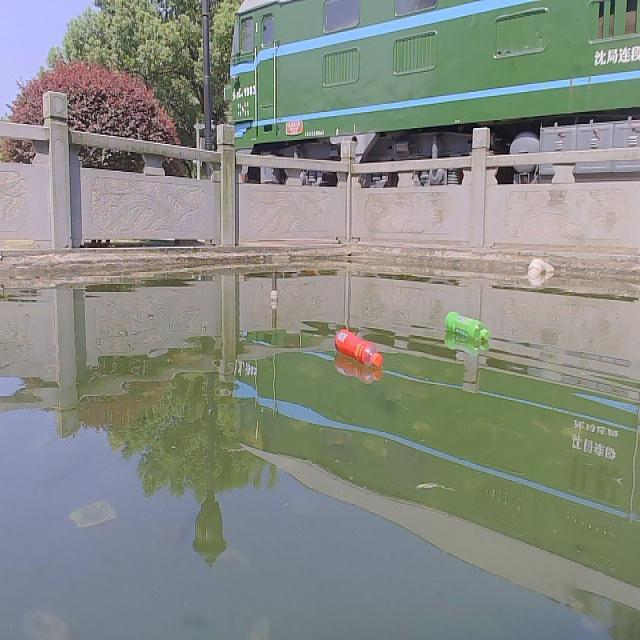bottle: (331, 323, 383, 369), (444, 309, 489, 342)
